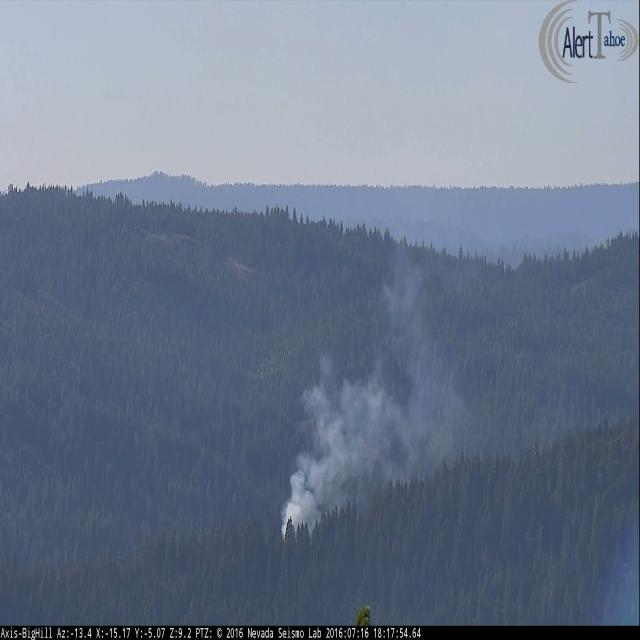smoke: (284, 348, 463, 544)
